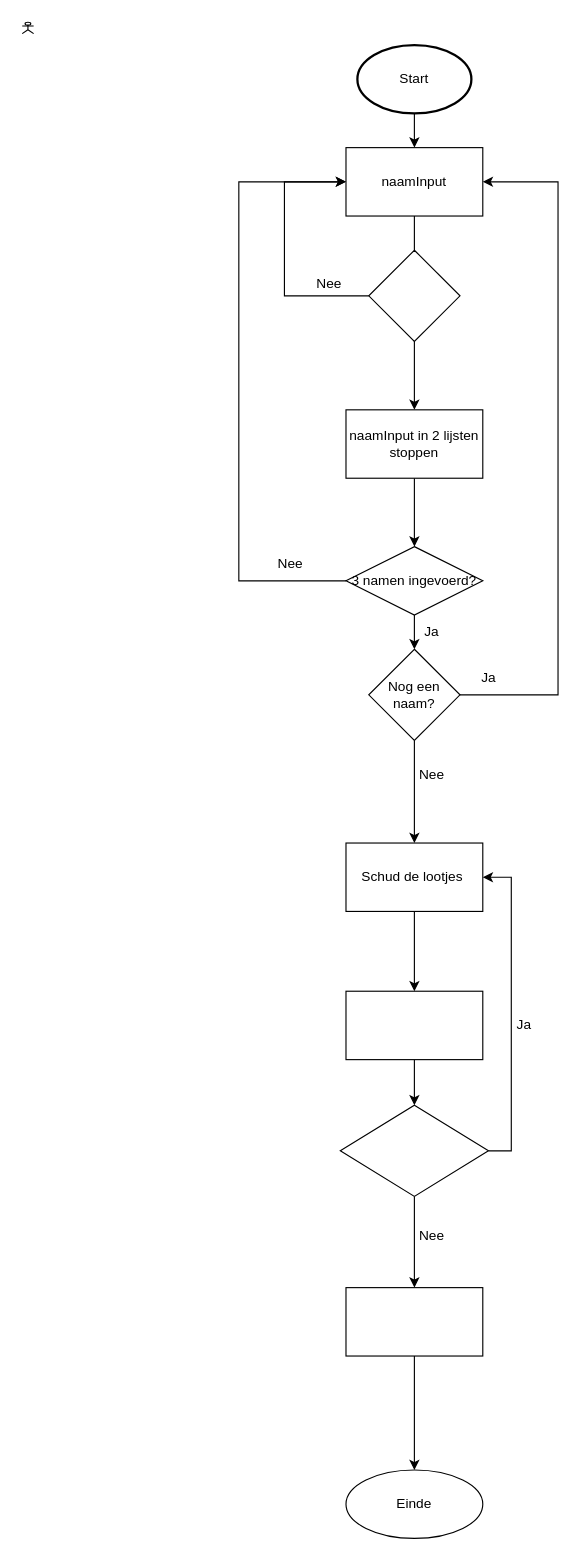
Image size: 587x1558. Some labels were removed from this diagram. Each missing label, with the centre of its shape:
"Dezelfde naam aan elkaar gekoppeld" belongs at pixel 413 1150.
"print de namen" belongs at pixel 414 1321.
"unieke naam" belongs at pixel 414 295.
"voor alle lootjes: naam aan lootje koppellen" belongs at pixel 414 1025.
